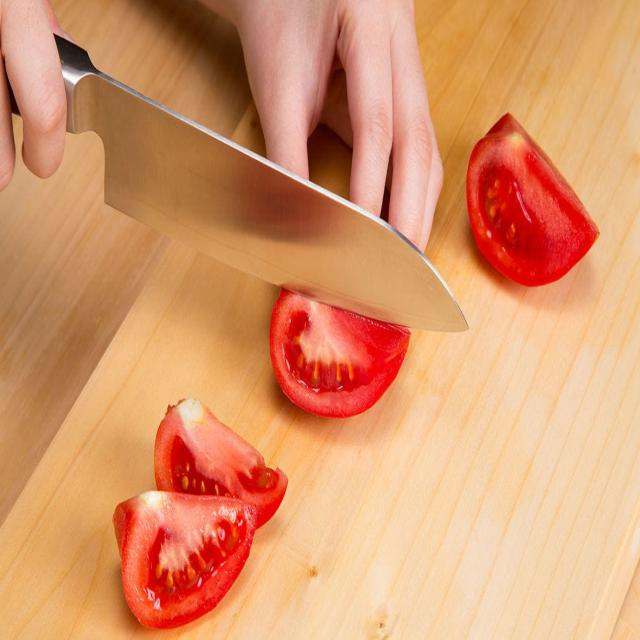Tomato: (462, 109, 608, 298), (108, 486, 258, 631), (265, 280, 412, 425), (153, 394, 290, 536)
